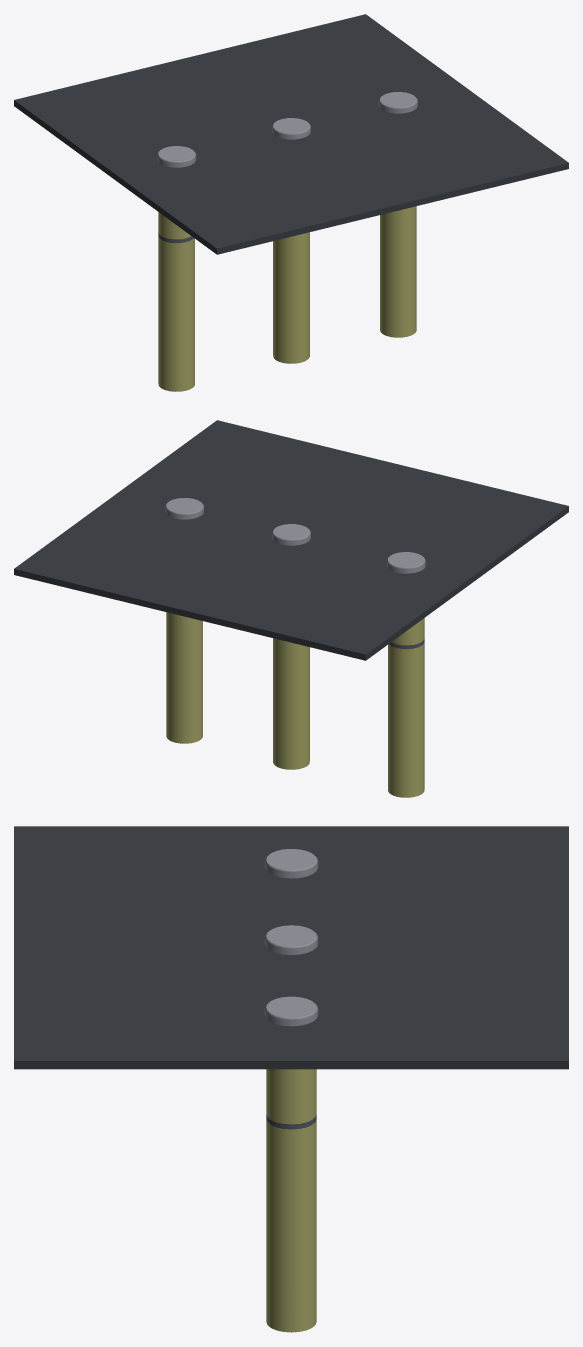
Rendered from Bollards_V3.fbx.
3 renders of one model, top to bottom at view 1: azimuth 30°, elevation 25°; view 2: azimuth 150°, elevation 25°; view 3: azimuth 270°, elevation 25°, orthographic. The views are drawn at different scales.
Parts seen in each view (by area): view 1: Trap_Base1, Bolard04; view 2: Trap_Base1, Bolard04; view 3: Trap_Base1, Bolard04.
Part boxes in pixels (x1,y1,x2,y2): Trap_Base1: [14, 14, 568, 254]; Bolard04: [157, 92, 417, 391]; Trap_Base1: [14, 420, 568, 660]; Bolard04: [165, 498, 425, 797]; Trap_Base1: [14, 826, 568, 1069]; Bolard04: [264, 849, 318, 1332].
Bounding box in the file's own units: 0.12 × 0.0751 × 0.12.
